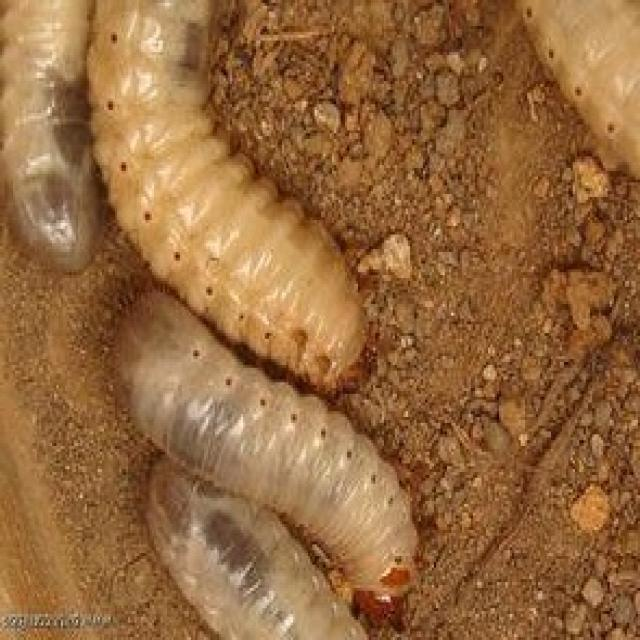grub: (81, 2, 394, 405), (97, 294, 421, 607), (3, 1, 116, 285), (502, 3, 640, 226)
